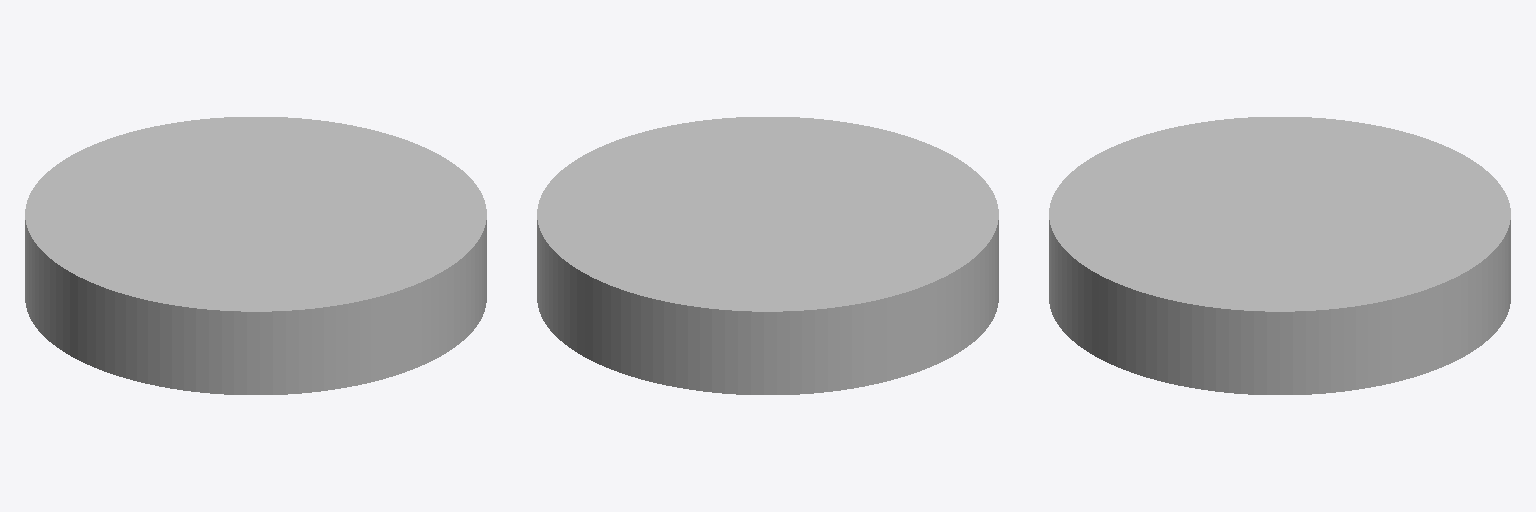
File: TestBlade3-1.obj
3 renders of one model, left to right at view 1: azimuth 30°, elevation 25°; view 2: azimuth 150°, elevation 25°; view 3: azimuth 270°, elevation 25°, orthographic.
Bounding box in the file's own units: 0.05 × 0.01 × 0.05.